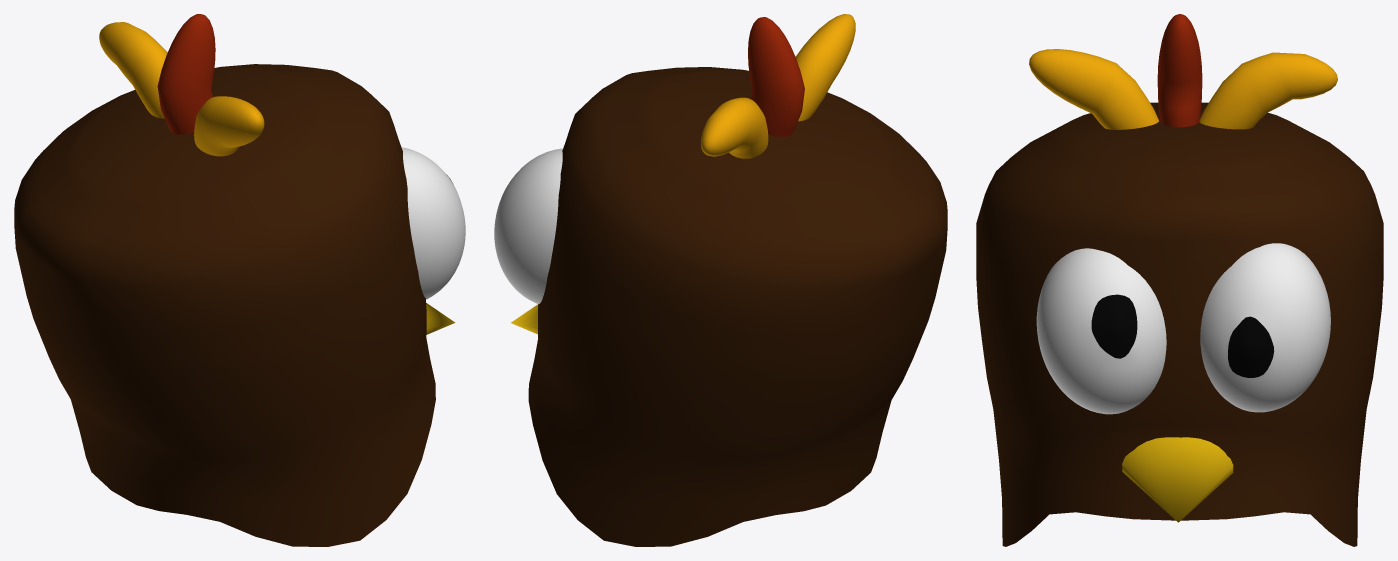
File: turkey.glb
3 renders of one model, left to right at view 1: azimuth 30°, elevation 25°; view 2: azimuth 150°, elevation 25°; view 3: azimuth 270°, elevation 25°, orthographic. The views are drawn at different scales.
Visible parts, largest first — view 1: Turkey_Hat; view 2: Turkey_Hat; view 3: Turkey_Hat.
Part boxes in pixels (x1,y1,x2,y2): Turkey_Hat: [14, 14, 465, 546]; Turkey_Hat: [494, 14, 947, 546]; Turkey_Hat: [976, 14, 1383, 546].
Size of the model in its own units: 0.2984 by 0.3277 by 0.245.
